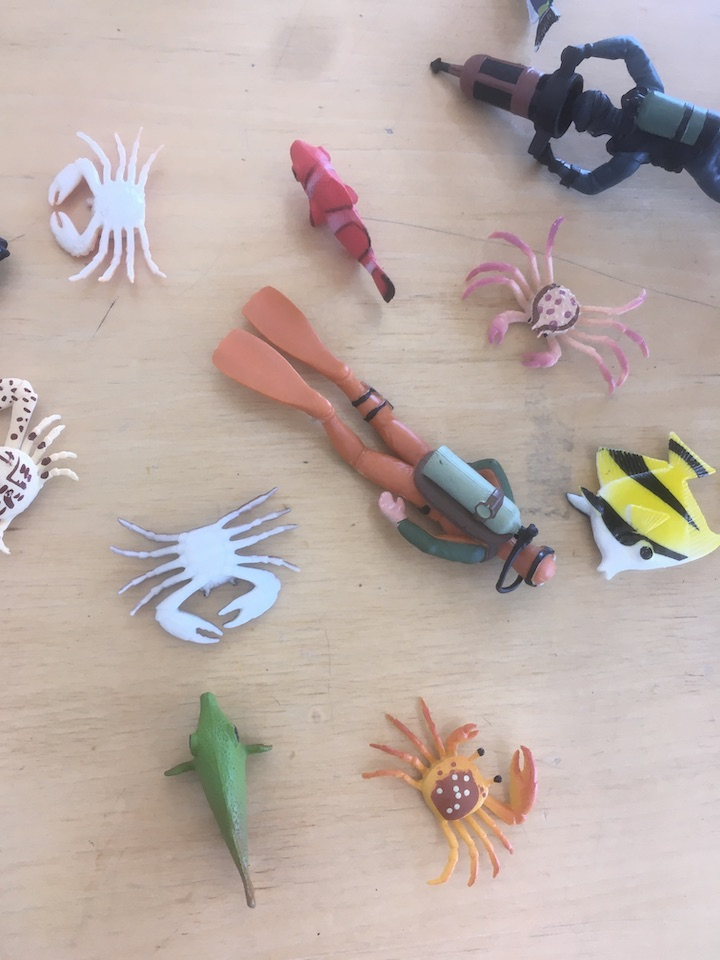crab: (454, 208, 660, 398), (360, 692, 546, 895), (105, 483, 308, 650), (36, 127, 173, 294), (1, 367, 84, 562)
danger: (564, 427, 720, 589)
diver: (206, 279, 560, 596), (427, 33, 720, 211)
fish: (161, 681, 279, 917), (281, 133, 402, 313)
